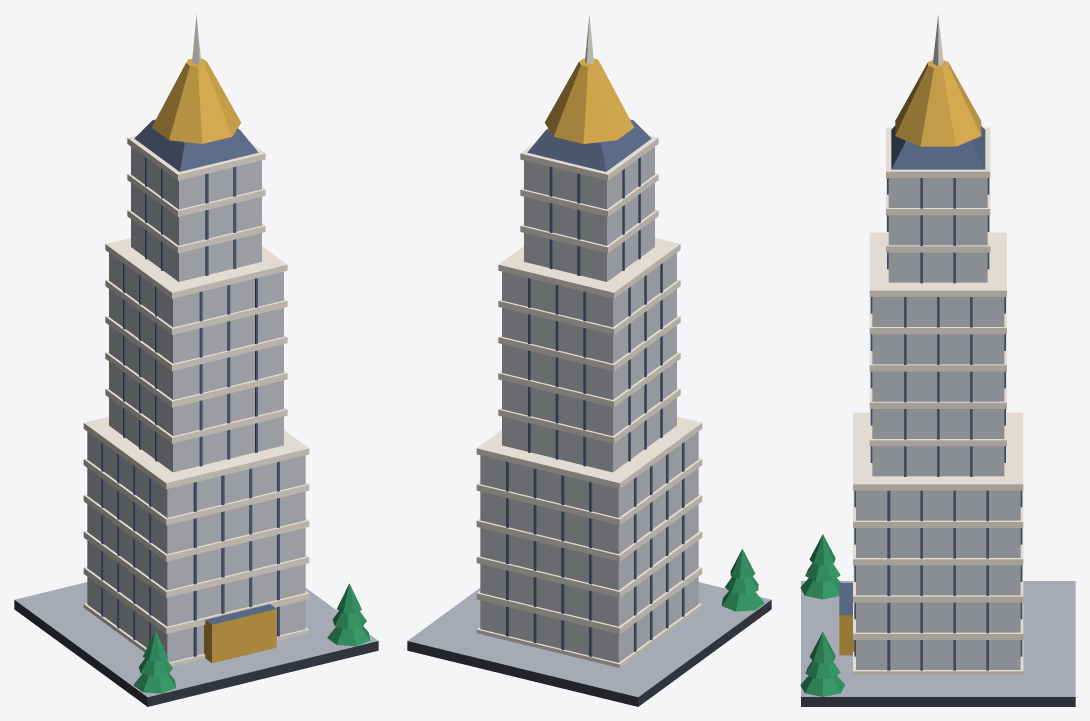
The model's file is office_spire.glb.
The picture shows the model from 3 angles, left to right: view 1: azimuth 30°, elevation 25°; view 2: azimuth 150°, elevation 25°; view 3: azimuth 270°, elevation 25°; orthographic projection. The views are drawn at different scales.
Parts seen in each view (by area): view 1: office_spire; view 2: office_spire; view 3: office_spire.
Boxes of the visible parts, box(x1,y1,x2,y2) form: office_spire: box(14, 14, 378, 706); office_spire: box(407, 14, 771, 706); office_spire: box(800, 15, 1075, 706).
Size of the model in its own units: 1 by 2.55 by 1.
